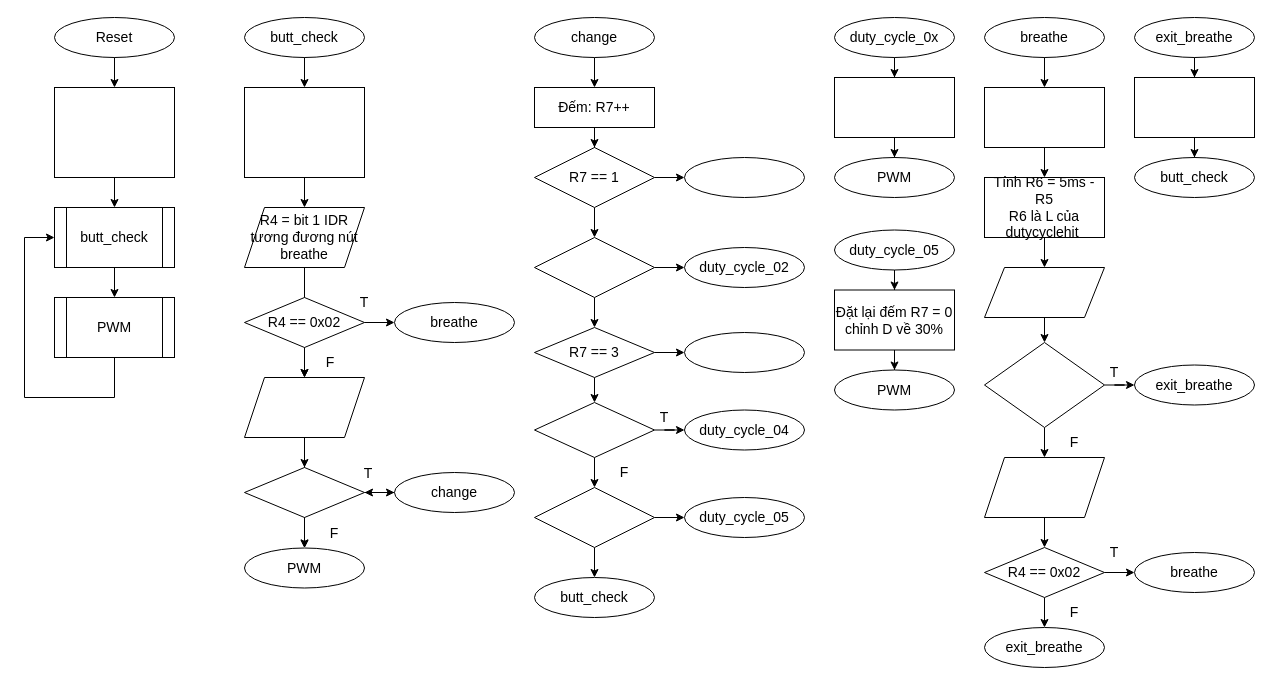
Some shapes in this 1272 by 685 pixel diagram are drawn without their labels. The centre of each missing label's shape, as x and y in pixels:
"Bật tắt led theo duty cycle" goes at (1044,292).
"Chỉnh dutycycle về mặc định là 30%" goes at (1194,107).
"chỉnh giá trị H&L tương ứng" goes at (894,107).
"Cài đặt RCC_APB2ENR, định hình GPIOA, đặt Dutycycle mặc định, counter R7 = 0" goes at (114,132).
"duty_cycle_01" goes at (744,177).
"duty_cycle_03" goes at (744,352).
"Kiểm tra hết bảng giá trị" goes at (1044,385).
"Lấy địa chỉ và số phần tử của mảng cho breathe; Đọc thanh ghi GPIOA_IDR" goes at (304,132).
"R4 = bit 0 IDR tương đương nút change" goes at (304,407).
"R4 == 0x01" goes at (304,492).
"R7 == 2" goes at (594,267).
"R7 == 4" goes at (594,430).
"R7 == 5" goes at (594,517).
"Đọc giá trị i của mảng vào R5 (H của dutycycle)" goes at (1044,117).
"Đọc nút breathe vào R4" goes at (1044,487).
